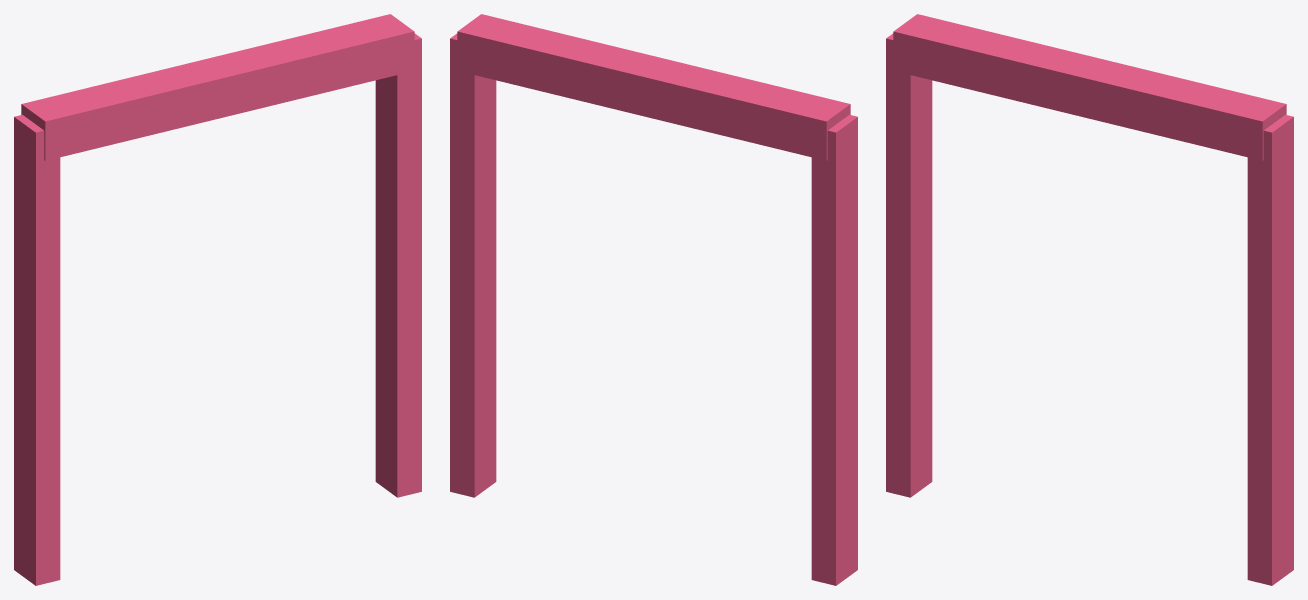
Rendered from gate-red.glb.
3 renders of one model, left to right at view 1: azimuth 30°, elevation 25°; view 2: azimuth 150°, elevation 25°; view 3: azimuth 330°, elevation 25°, orthographic.
Parts seen in each view (by area): view 1: gate-red-2, gate-red-0, gate-red-1; view 2: gate-red-2, gate-red-0, gate-red-1; view 3: gate-red-2, gate-red-1, gate-red-0.
Part boxes in pixels (x1,y1,x2,y2): gate-red-2: [21, 14, 414, 160]; gate-red-0: [14, 114, 60, 585]; gate-red-1: [375, 33, 421, 497]; gate-red-2: [457, 14, 850, 160]; gate-red-0: [811, 114, 857, 585]; gate-red-1: [450, 33, 496, 497]; gate-red-2: [893, 14, 1286, 160]; gate-red-1: [1247, 114, 1293, 585]; gate-red-0: [886, 33, 932, 497].
Bounding box in the file's own units: 2.05 × 2.35 × 0.22.
